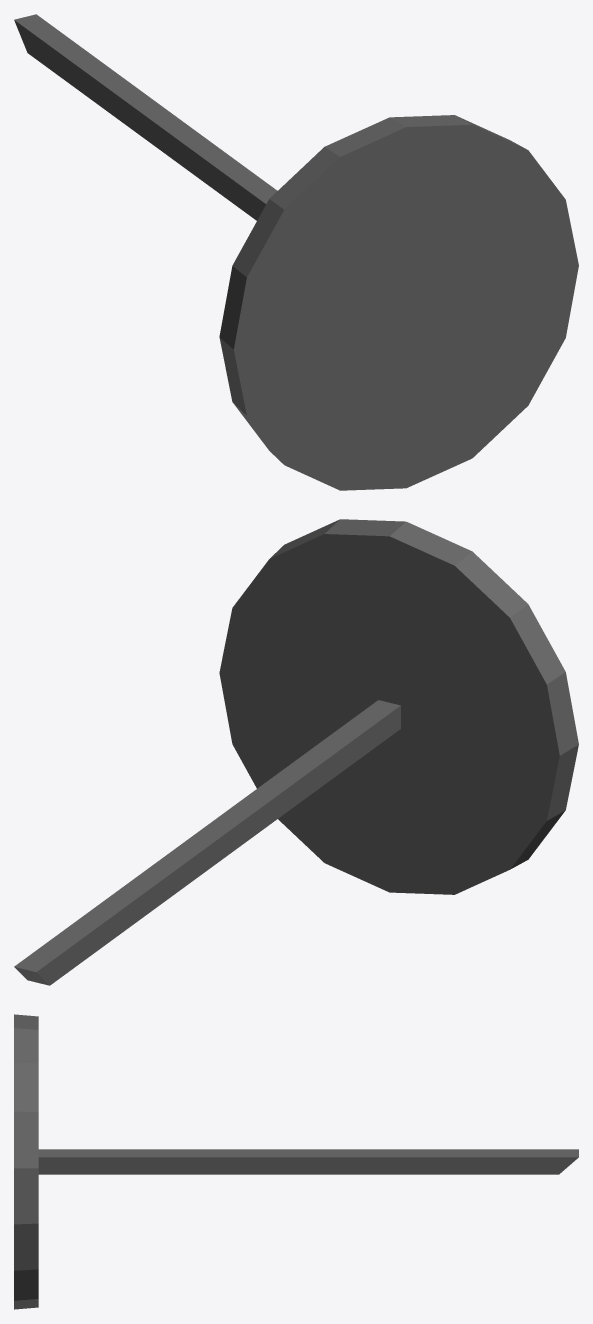
The model's file is Table_Lamp_1.glb.
3 views of the same model, one above another, from view 1: azimuth 30°, elevation 25°; view 2: azimuth 150°, elevation 25°; view 3: azimuth 270°, elevation 25° (orthographic). The views are drawn at different scales.
Visible parts, largest first — view 1: Table Lamp 1; view 2: Table Lamp 1; view 3: Table Lamp 1.
Part boxes in pixels (x1,y1,x2,y2): Table Lamp 1: (14,14,578,490); Table Lamp 1: (14,519,578,985); Table Lamp 1: (14,1014,578,1309).
Size of the model in its own units: 0.1339 by 0.1339 by 0.2561.
1 material, 1 textured.
